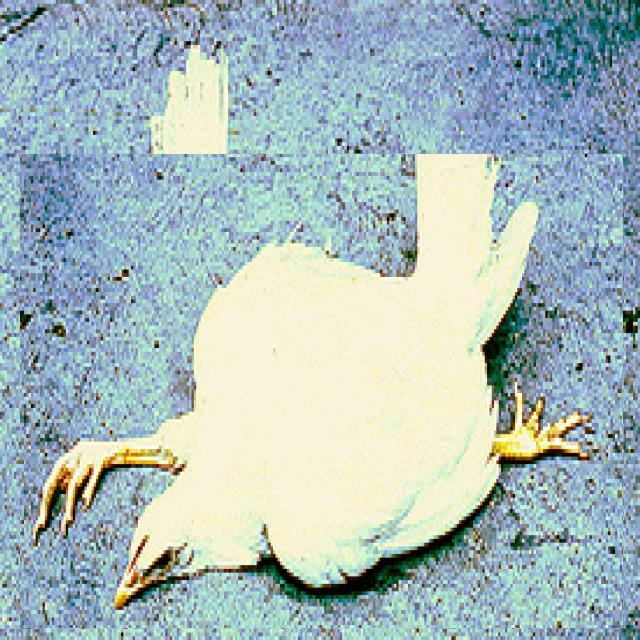AbNormal: (32, 154, 593, 607)
